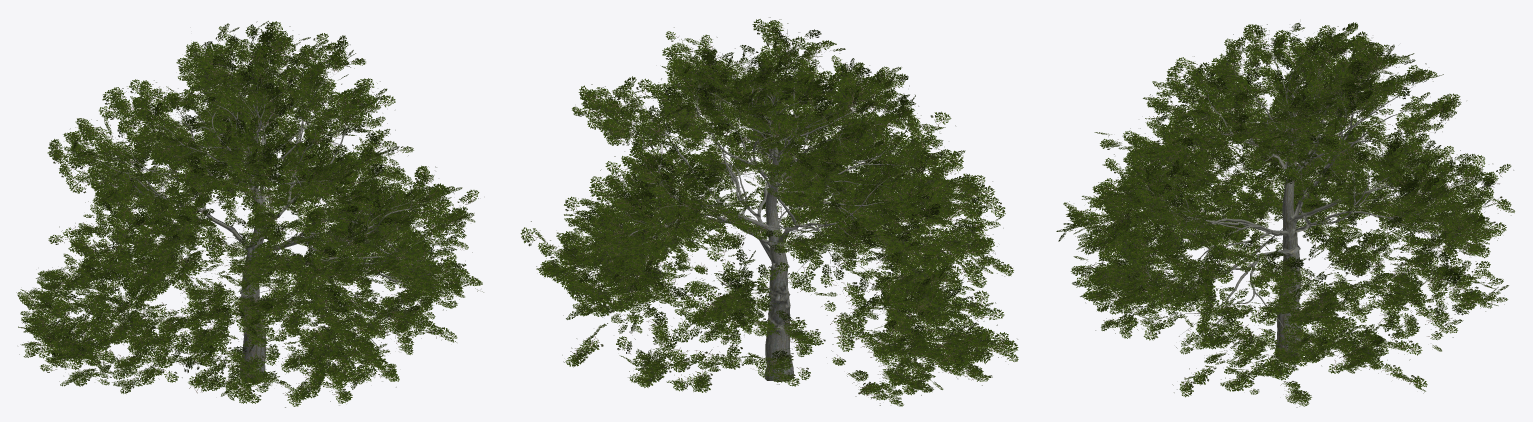
Rendered from tree-game-desktop.glb.
The picture shows the model from 3 angles, left to right: view 1: azimuth 30°, elevation 25°; view 2: azimuth 150°, elevation 25°; view 3: azimuth 270°, elevation 25°; orthographic projection. The views are drawn at different scales.
Parts seen in each view (by area): view 1: Game_Hero_Source; view 2: Game_Hero_Source; view 3: Game_Hero_Source.
Boxes of the visible parts, x1,y1,x2,y2 form: Game_Hero_Source: (16, 21, 483, 407); Game_Hero_Source: (520, 17, 1018, 406); Game_Hero_Source: (1056, 22, 1514, 407).
Bounding box in the file's own units: 55.17 × 42.87 × 53.45.
Materials: 2 (2 with a texture image).
